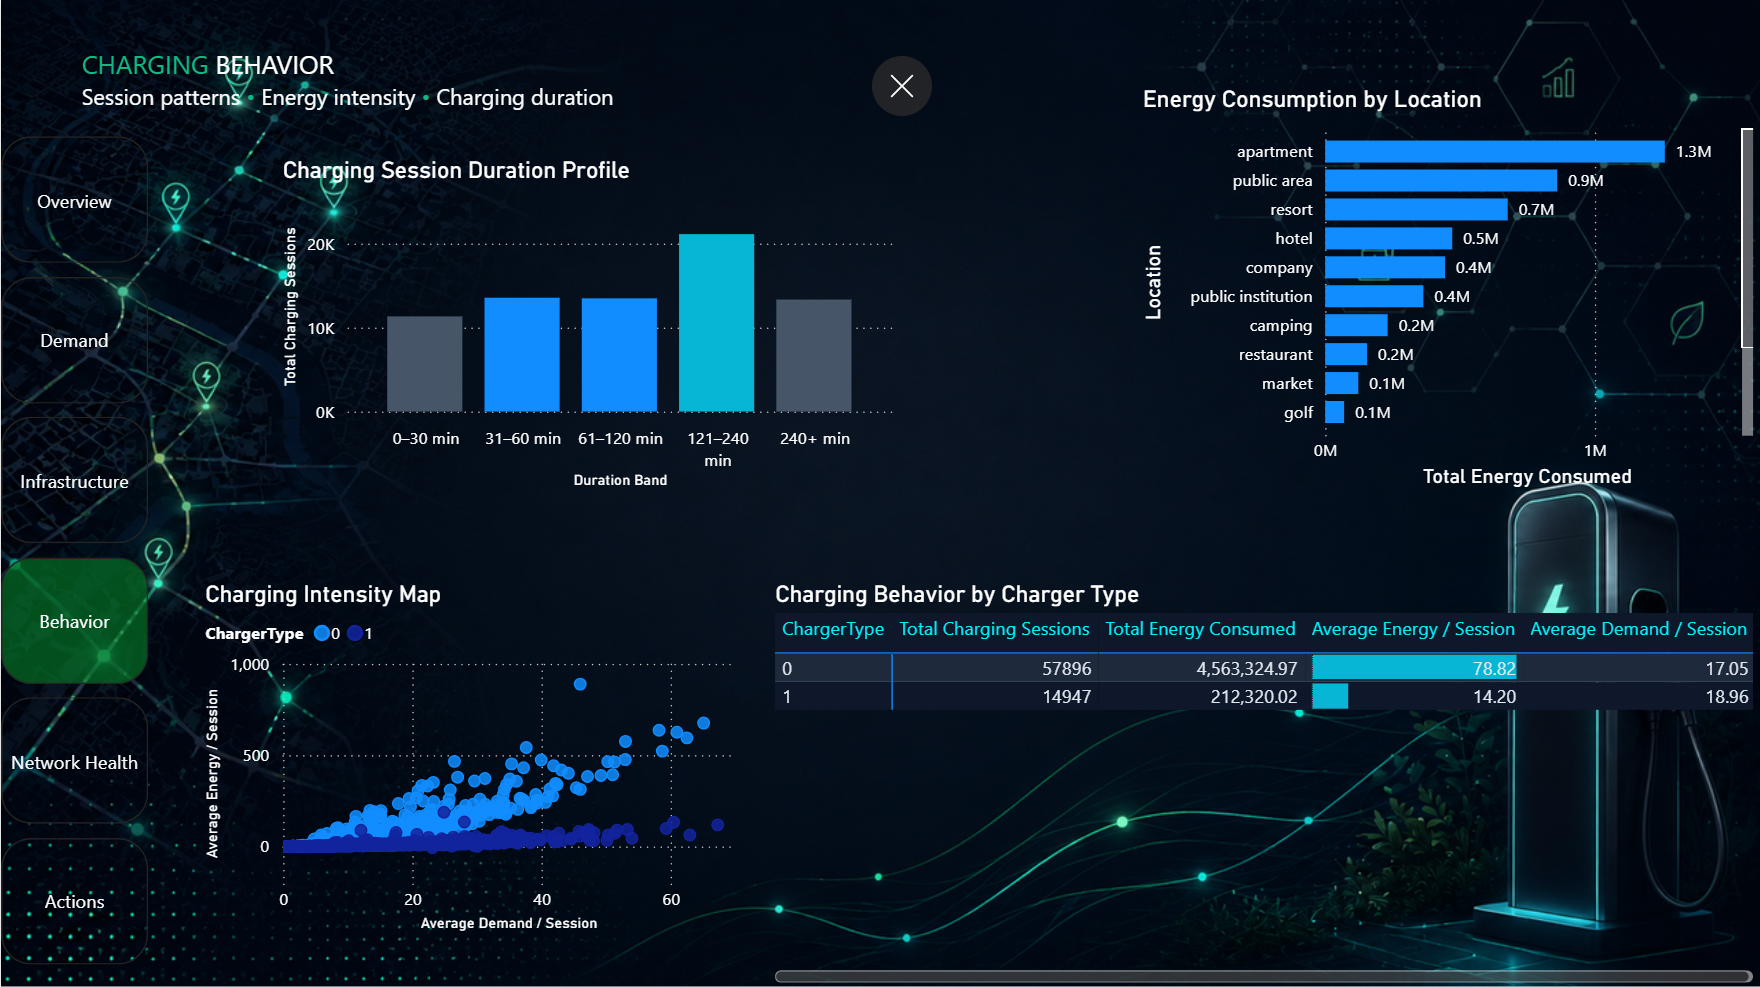

The dashboard page shown, as its layout file describes it:
{"tool":"powerbi","page":{"name":"Behavior","canvas":[1280,720],"ordinal":3},"visuals":[{"type":"textbox","box":[53.4,28.9,438.6,60.6],"z":0},{"type":"clusteredColumnChart","title":"Charging Session Duration Profile","fields":{"Category":["Fact_Charging_Records.Duration Band"],"Y":["Calculation_tbl.Total Charging Sessions"]},"box":[200.4,113.1,454,246.7],"z":0,"group":"g1"},{"type":"pageNavigator","box":[0,99.4,107.9,604.7],"z":1000},{"type":"scatterChart","title":"Charging Intensity Map","fields":{"Category":["Dim_Charger.ChargerID"],"Series":["Dim_Charger.ChargerType"],"X":["Calculation_tbl.Average Demand / Session"],"Y":["Calculation_tbl.Average Energy / Session"]},"box":[143.9,421.4,402.6,260.4],"z":1000,"group":"g1"},{"type":"group","id":"g1","title":"Group_Behavior","box":[143.9,61.7,1135.8,657.8],"z":2000},{"type":"clusteredBarChart","title":"Energy Consumption by Location","fields":{"Category":["Fact_Charging_Records.Location"],"Y":["Calculation_tbl.Total Energy Consumed"]},"box":[825.7,61.7,454,298.1],"z":2000,"group":"g1"},{"type":"pivotTable","title":"Charging Behavior by Charger Type","fields":{"Rows":["Dim_Charger.ChargerType"],"Values":["Calculation_tbl.Total Charging Sessions","Calculation_tbl.Total Energy Consumed","Calculation_tbl.Average Energy / Session","Calculation_tbl.Average Demand / Session"]},"box":[558.5,421.4,721.2,298.1],"z":3000,"group":"g1"}]}

Visuals, with their boxes in screenshot pixels (x1, y1, x2, y2), scaled from the page's 1280x720 canvas onto the 1760x987 screenshot:
textbox: pyautogui.locateOnScreen(73, 40, 676, 123)
"Charging Session Duration Profile" clusteredColumnChart: pyautogui.locateOnScreen(276, 155, 900, 493)
pageNavigator: pyautogui.locateOnScreen(0, 136, 148, 965)
"Charging Intensity Map" scatterChart: pyautogui.locateOnScreen(198, 578, 751, 935)
"Group_Behavior" group: pyautogui.locateOnScreen(198, 85, 1759, 986)
"Energy Consumption by Location" clusteredBarChart: pyautogui.locateOnScreen(1135, 85, 1759, 493)
"Charging Behavior by Charger Type" pivotTable: pyautogui.locateOnScreen(768, 578, 1759, 986)
